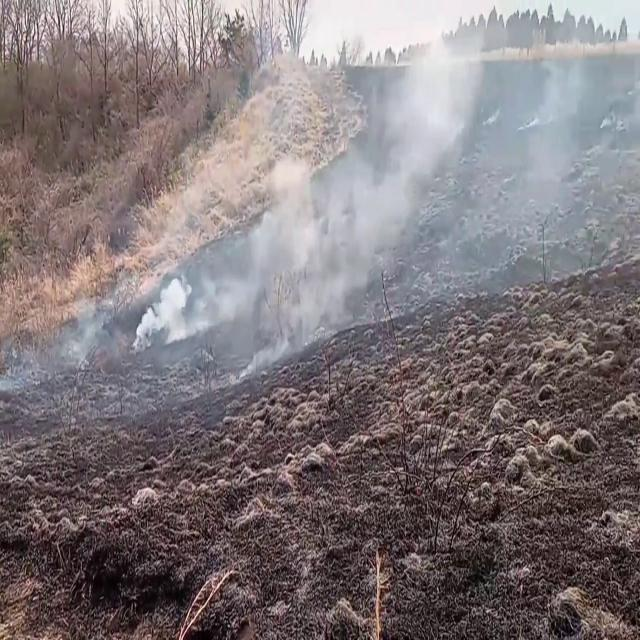Smoke: (154, 0, 638, 375)
